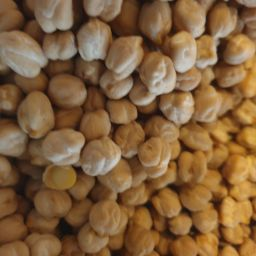White Chickpeas: (11, 9, 256, 256), (59, 60, 168, 174)
